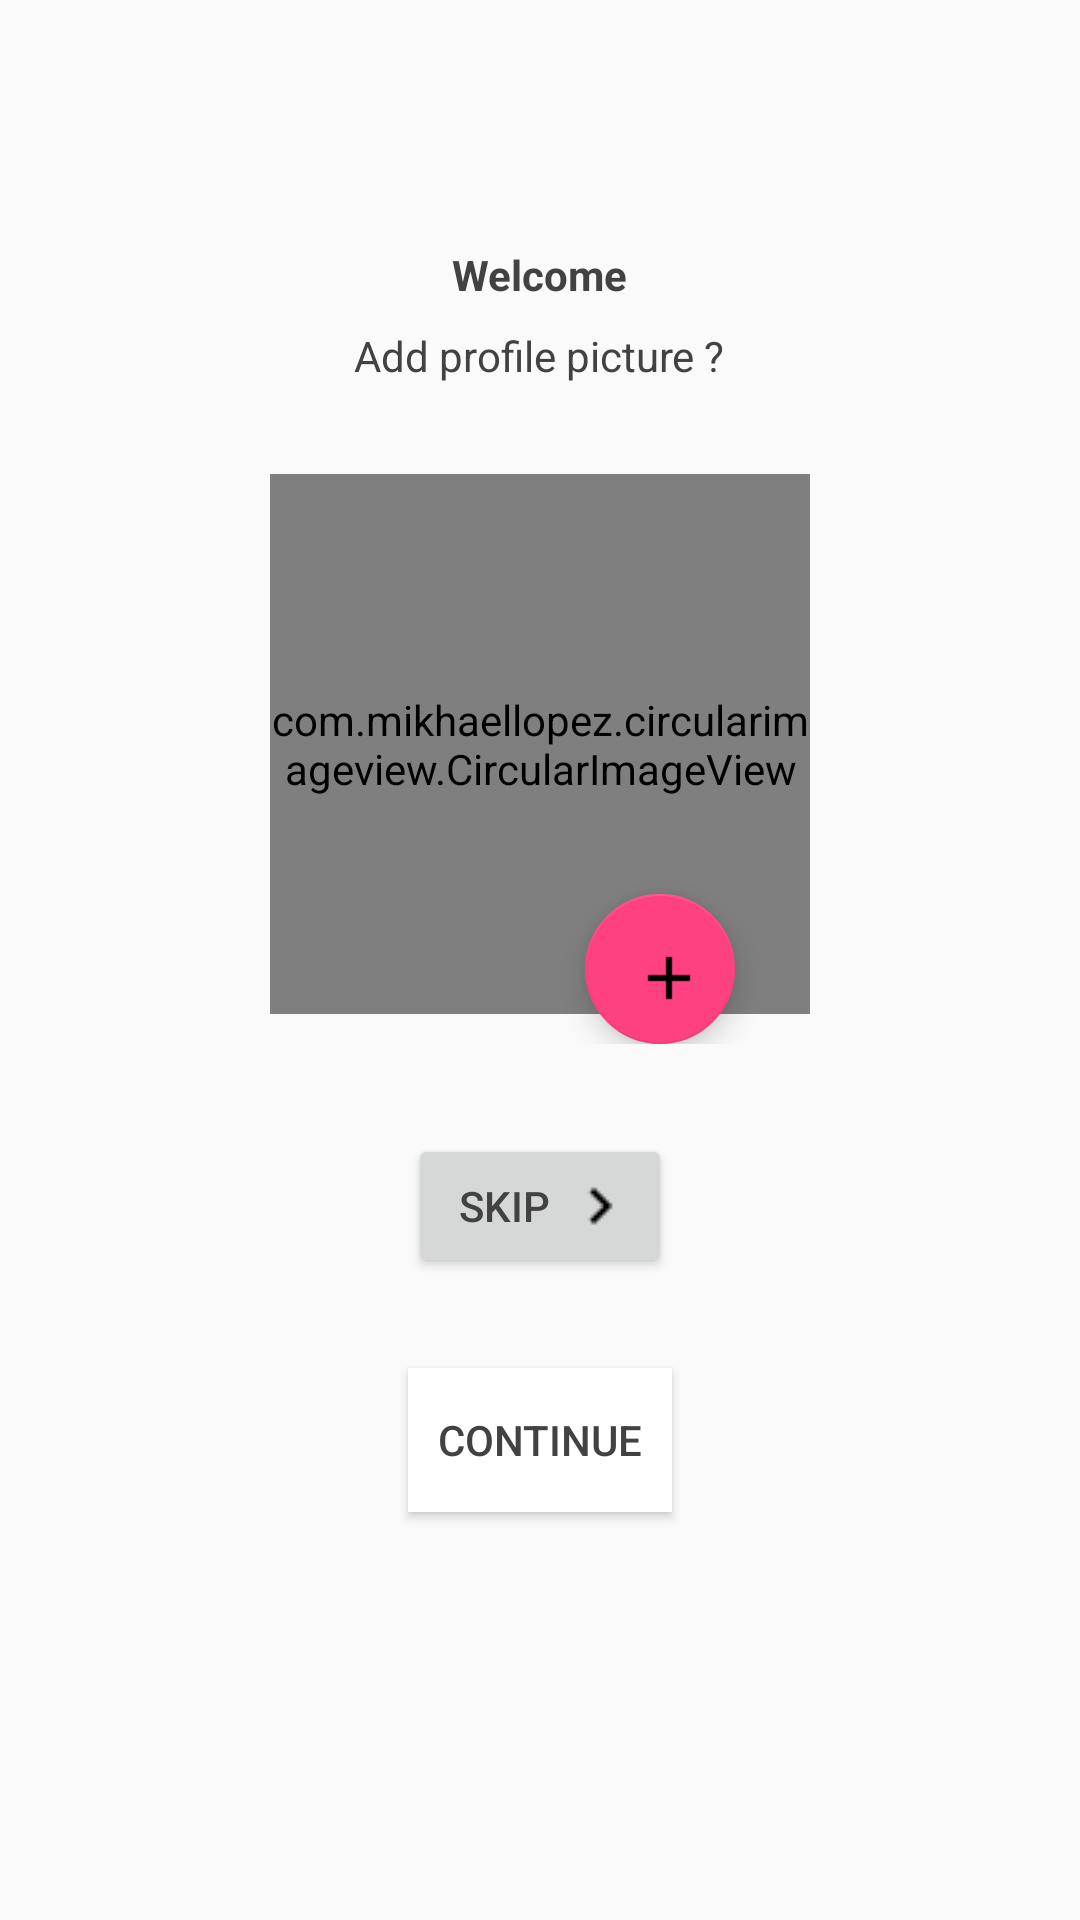

Screen size 1080*1920. Icon name, then its center in pixels as [x,y]:
plus: [660,969]
